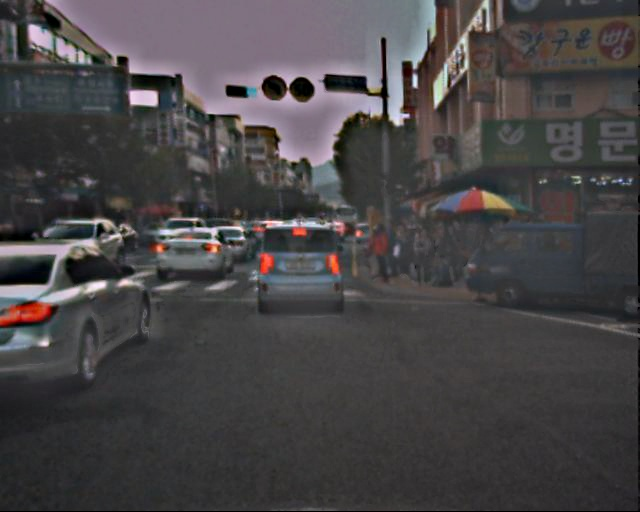person: (390, 221, 463, 285), (366, 225, 391, 286)
